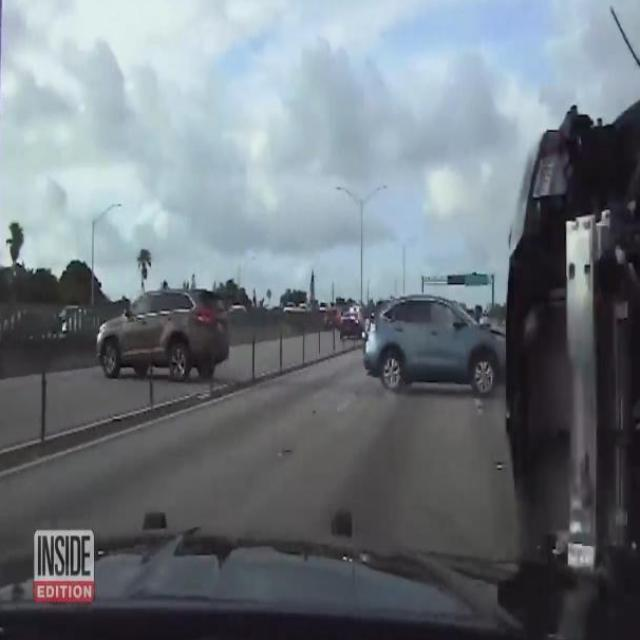accident: (505, 109, 640, 575)
